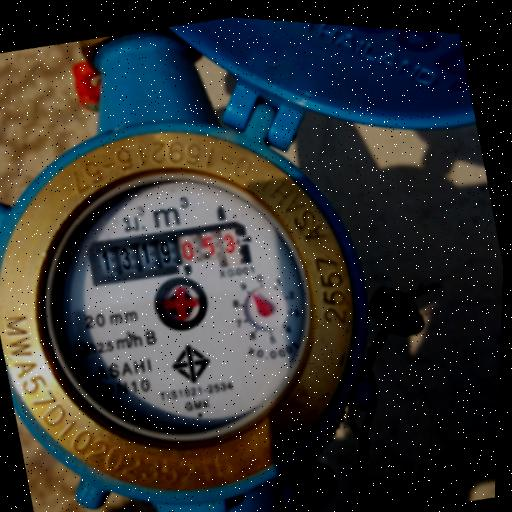0: (176, 233, 199, 266)
1: (136, 240, 158, 273), (96, 246, 117, 280)
3: (218, 225, 244, 269), (116, 242, 137, 276)
5: (197, 229, 220, 263)
9: (155, 237, 176, 271)
border_water_meter_number: (84, 207, 254, 300)
